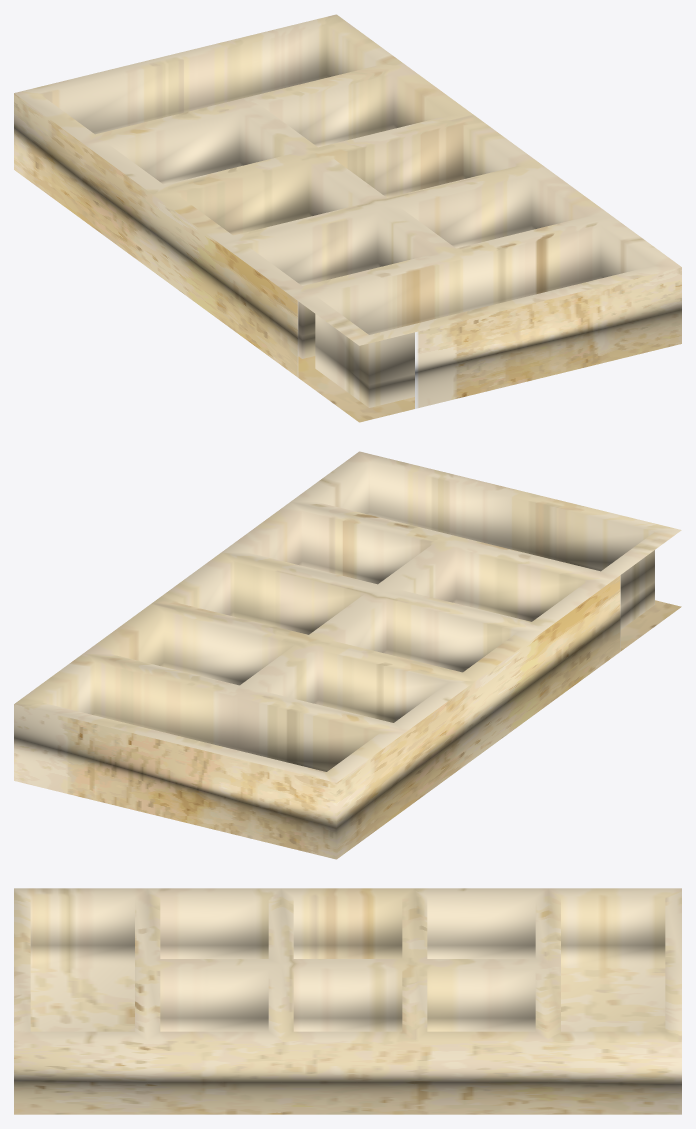
The model's file is mancala.fbx.
3 views of the same model, one above another, from view 1: azimuth 30°, elevation 25°; view 2: azimuth 150°, elevation 25°; view 3: azimuth 270°, elevation 25° (orthographic). The views are drawn at different scales.
Visible parts, largest first — view 1: Cube; view 2: Cube; view 3: Cube.
Part boxes in pixels (x1=…): Cube: x1=14, y1=14, x2=681, y2=422; Cube: x1=14, y1=451, x2=681, y2=859; Cube: x1=14, y1=888, x2=681, y2=1114.
Bounding box in the file's own units: 881 × 200 × 1633.
